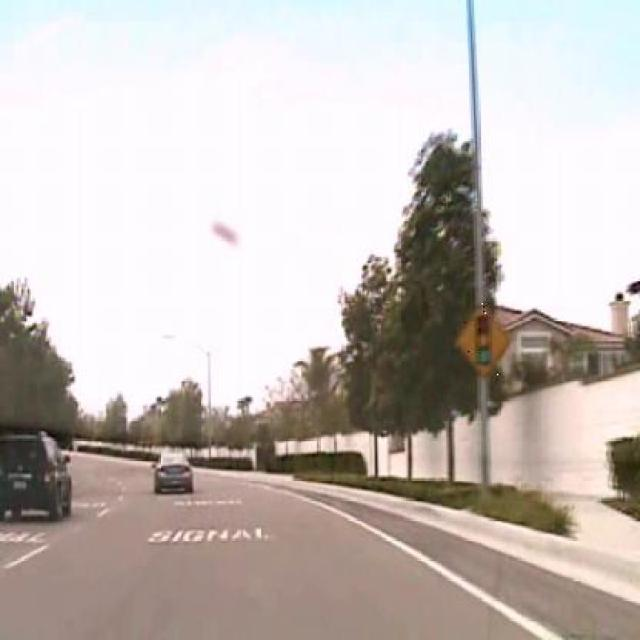signalAhead: (454, 300, 509, 378)
